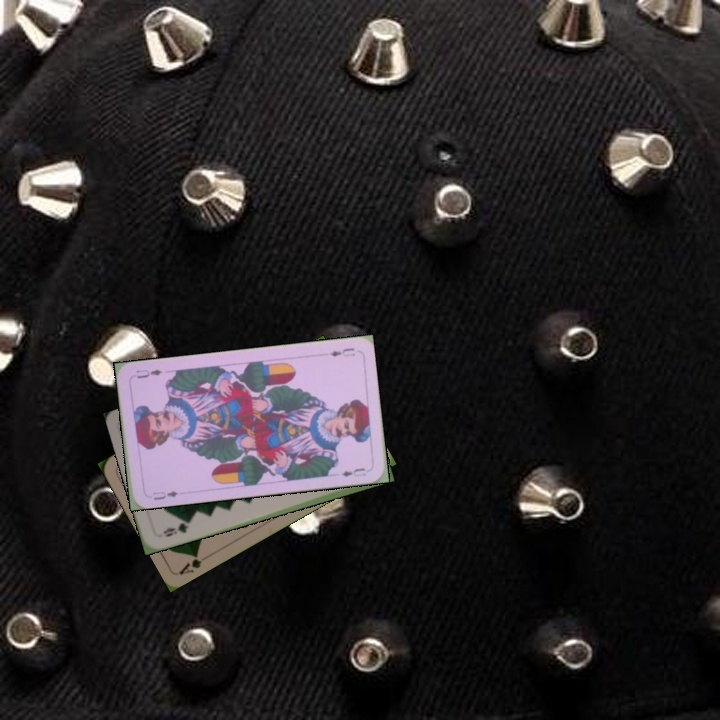EU: (149, 487, 184, 503), (326, 344, 357, 359)
G9: (159, 517, 193, 539)
GA: (176, 550, 204, 577)
